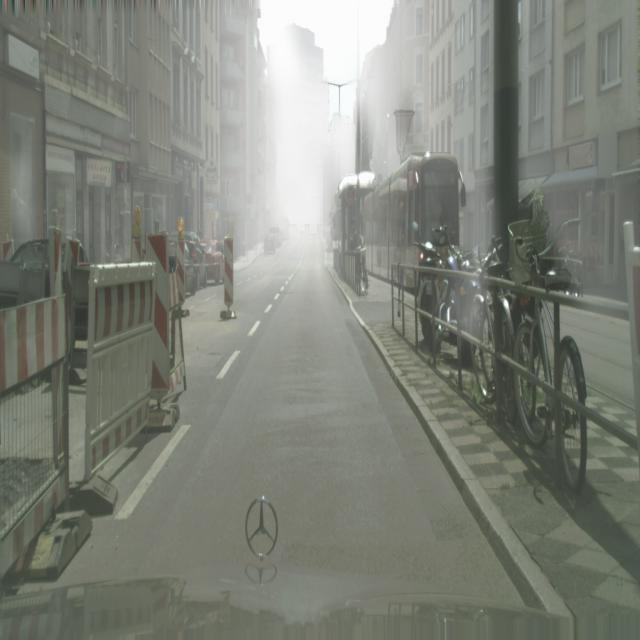bicycle: (365, 152, 466, 261)
motorcycle: (355, 247, 369, 296)
person: (184, 229, 208, 289), (203, 239, 224, 284)
truck: (511, 220, 588, 494), (462, 234, 517, 423)
